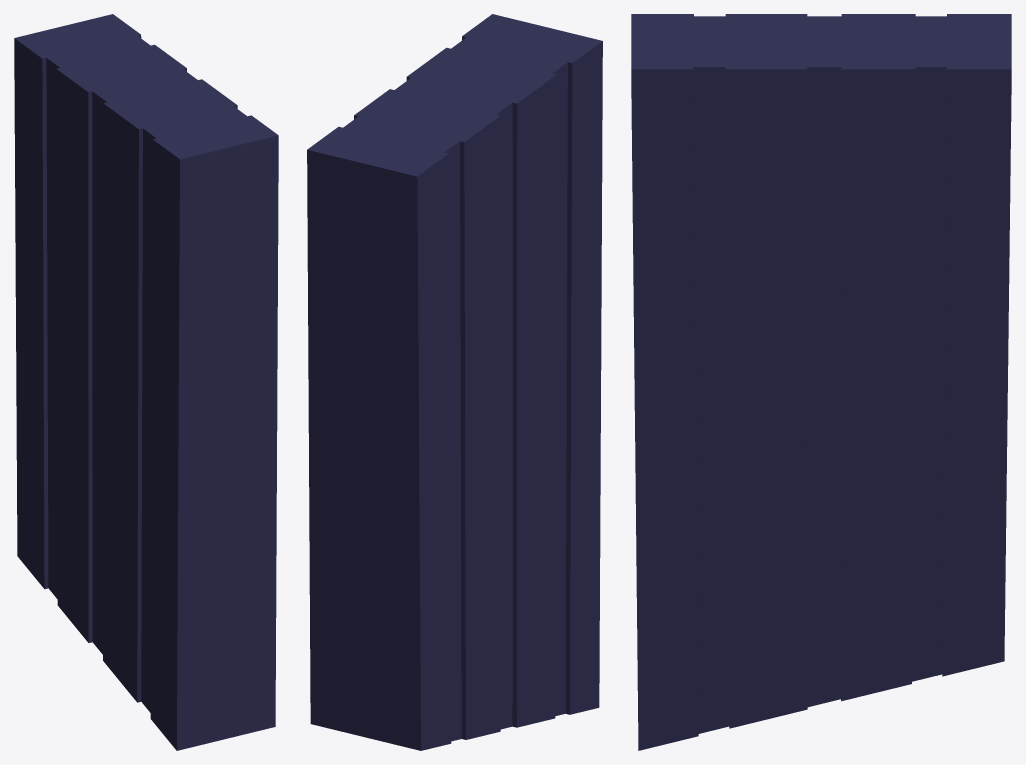
The model's file is Magazine_6.fbx.
3 renders of one model, left to right at view 1: azimuth 30°, elevation 25°; view 2: azimuth 150°, elevation 25°; view 3: azimuth 270°, elevation 25°, orthographic. The views are drawn at different scales.
Parts seen in each view (by area): view 1: Magazine_6; view 2: Magazine_6; view 3: Magazine_6.
Boxes of the visible parts, box(x1,y1,x2,y2) form: Magazine_6: box(14, 14, 278, 750); Magazine_6: box(307, 14, 602, 750); Magazine_6: box(631, 14, 1011, 750).
Bounding box in the file's own units: 0.1484 × 0.8528 × 0.4316.
